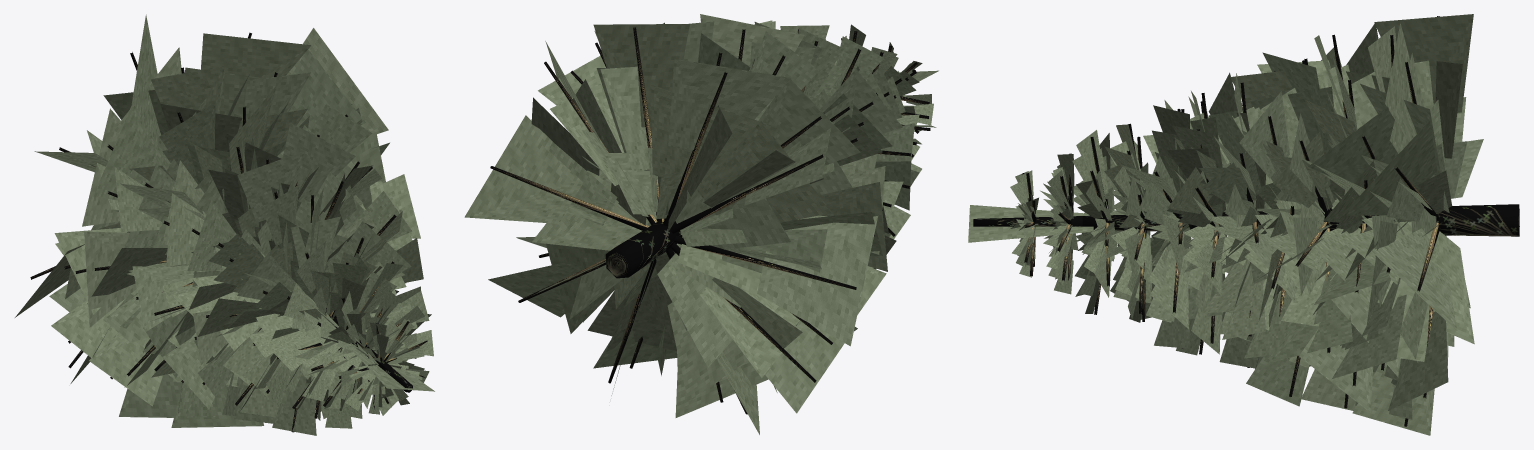
The model's file is PZ_ALP_02_Young_Alpine_Fir_2p2m.glb.
The picture shows the model from 3 angles, left to right: view 1: azimuth 30°, elevation 25°; view 2: azimuth 150°, elevation 25°; view 3: azimuth 270°, elevation 25°; orthographic projection. The views are drawn at different scales.
Visible parts, largest first — view 1: NeedleSprigCards_DoubleSided_MASK, StructuralBranches_Conifer, TreeTrunk_Bark; view 2: NeedleSprigCards_DoubleSided_MASK, StructuralBranches_Conifer, TreeTrunk_Bark; view 3: NeedleSprigCards_DoubleSided_MASK, StructuralBranches_Conifer, TreeTrunk_Bark.
Boxes of the visible parts, bbox=[...] form: NeedleSprigCards_DoubleSided_MASK: bbox=[15, 14, 434, 435]; StructuralBranches_Conifer: bbox=[30, 32, 427, 432]; TreeTrunk_Bark: bbox=[329, 314, 412, 392]; NeedleSprigCards_DoubleSided_MASK: bbox=[464, 14, 938, 434]; StructuralBranches_Conifer: bbox=[490, 27, 930, 414]; TreeTrunk_Bark: bbox=[605, 69, 916, 278]; NeedleSprigCards_DoubleSided_MASK: bbox=[968, 14, 1483, 435]; StructuralBranches_Conifer: bbox=[1022, 16, 1440, 426]; TreeTrunk_Bark: bbox=[973, 204, 1519, 236].
Size of the model in its own units: 1.7 by 1.69 by 2.22.
Materials: 2 (2 with a texture image).
